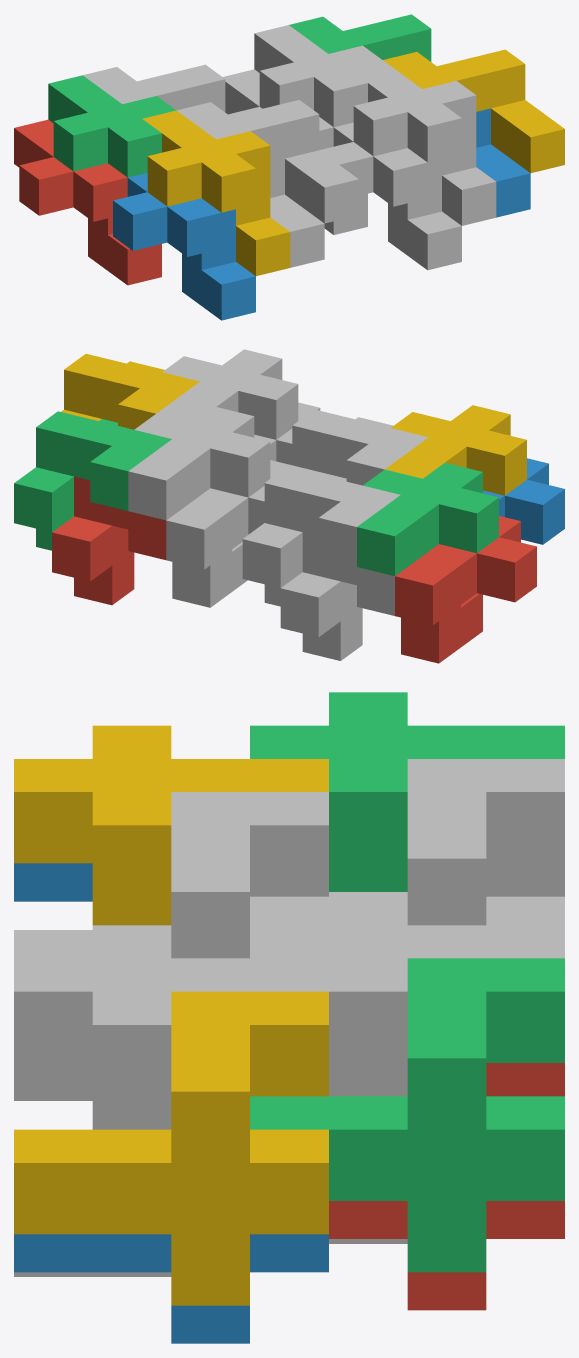
Rendered from tiling.obj.
3 views of the same model, one above another, from view 1: azimuth 30°, elevation 25°; view 2: azimuth 150°, elevation 25°; view 3: azimuth 270°, elevation 25° (orthographic). The views are drawn at different scales.
Parts seen in each view (by area): view 1: copy_1_domain_4, copy_1_domain_8, copy_1_domain_2, copy_1_domain_1, copy_1_domain_6, copy_2_domain_4, copy_2_domain_8, copy_1_domain_3, copy_1_domain_7, copy_2_domain_3, copy_2_domain_7, copy_2_domain_6 (+2 smaller); view 2: copy_1_domain_1, copy_1_domain_7, copy_2_domain_3, copy_1_domain_3, copy_2_domain_7, copy_1_domain_5, copy_2_domain_5, copy_2_domain_1, copy_1_domain_8, copy_1_domain_4, copy_2_domain_4, copy_2_domain_8 (+2 smaller); view 3: copy_2_domain_8, copy_2_domain_7, copy_1_domain_8, copy_1_domain_4, copy_2_domain_3, copy_1_domain_7, copy_1_domain_3, copy_2_domain_4, copy_2_domain_6, copy_2_domain_5, copy_1_domain_6, copy_1_domain_2 (+1 smaller).
Boxes of the visible parts, x1=… form: copy_1_domain_4: x1=142, y1=110, x2=290, y2=276; copy_1_domain_8: x1=348, y1=60, x2=496, y2=225; copy_1_domain_2: x1=113, y1=173, x2=255, y2=320; copy_1_domain_1: x1=14, y1=119, x2=161, y2=285; copy_1_domain_6: x1=319, y1=122, x2=461, y2=270; copy_2_domain_4: x1=177, y1=100, x2=358, y2=223; copy_2_domain_8: x1=383, y1=49, x2=564, y2=173; copy_1_domain_3: x1=48, y1=75, x2=176, y2=177; copy_1_domain_7: x1=254, y1=25, x2=382, y2=127; copy_2_domain_3: x1=83, y1=64, x2=225, y2=111; copy_2_domain_7: x1=289, y1=14, x2=431, y2=61; copy_2_domain_6: x1=476, y1=108, x2=530, y2=217; copy_1_domain_1: x1=395, y1=516, x2=536, y2=663; copy_1_domain_7: x1=128, y1=407, x2=270, y2=520; copy_2_domain_3: x1=242, y1=467, x2=400, y2=606; copy_1_domain_3: x1=357, y1=463, x2=498, y2=575; copy_2_domain_7: x1=14, y1=411, x2=171, y2=550; copy_1_domain_5: x1=166, y1=460, x2=291, y2=607; copy_2_domain_5: x1=52, y1=476, x2=166, y2=605; copy_2_domain_1: x1=280, y1=532, x2=394, y2=660; copy_1_domain_8: x1=156, y1=349, x2=298, y2=439; copy_1_domain_4: x1=385, y1=405, x2=526, y2=495; copy_2_domain_4: x1=290, y1=409, x2=427, y2=485; copy_2_domain_8: x1=61, y1=353, x2=199, y2=429; copy_2_domain_8: x1=14, y1=991, x2=328, y2=1305; copy_2_domain_7: x1=250, y1=958, x2=564, y2=1272; copy_1_domain_8: x1=14, y1=925, x2=328, y2=1129; copy_1_domain_4: x1=14, y1=725, x2=328, y2=925; copy_2_domain_3: x1=250, y1=759, x2=564, y2=925; copy_1_domain_7: x1=250, y1=892, x2=564, y2=1096; copy_1_domain_3: x1=250, y1=692, x2=564, y2=891; copy_2_domain_4: x1=14, y1=792, x2=328, y2=958; copy_2_domain_6: x1=14, y1=1234, x2=328, y2=1343; copy_2_domain_5: x1=329, y1=1063, x2=564, y2=1310; copy_1_domain_6: x1=14, y1=1063, x2=171, y2=1276; copy_1_domain_2: x1=14, y1=863, x2=92, y2=901.
Size of the model in its own units: 13 by 4 by 7.
